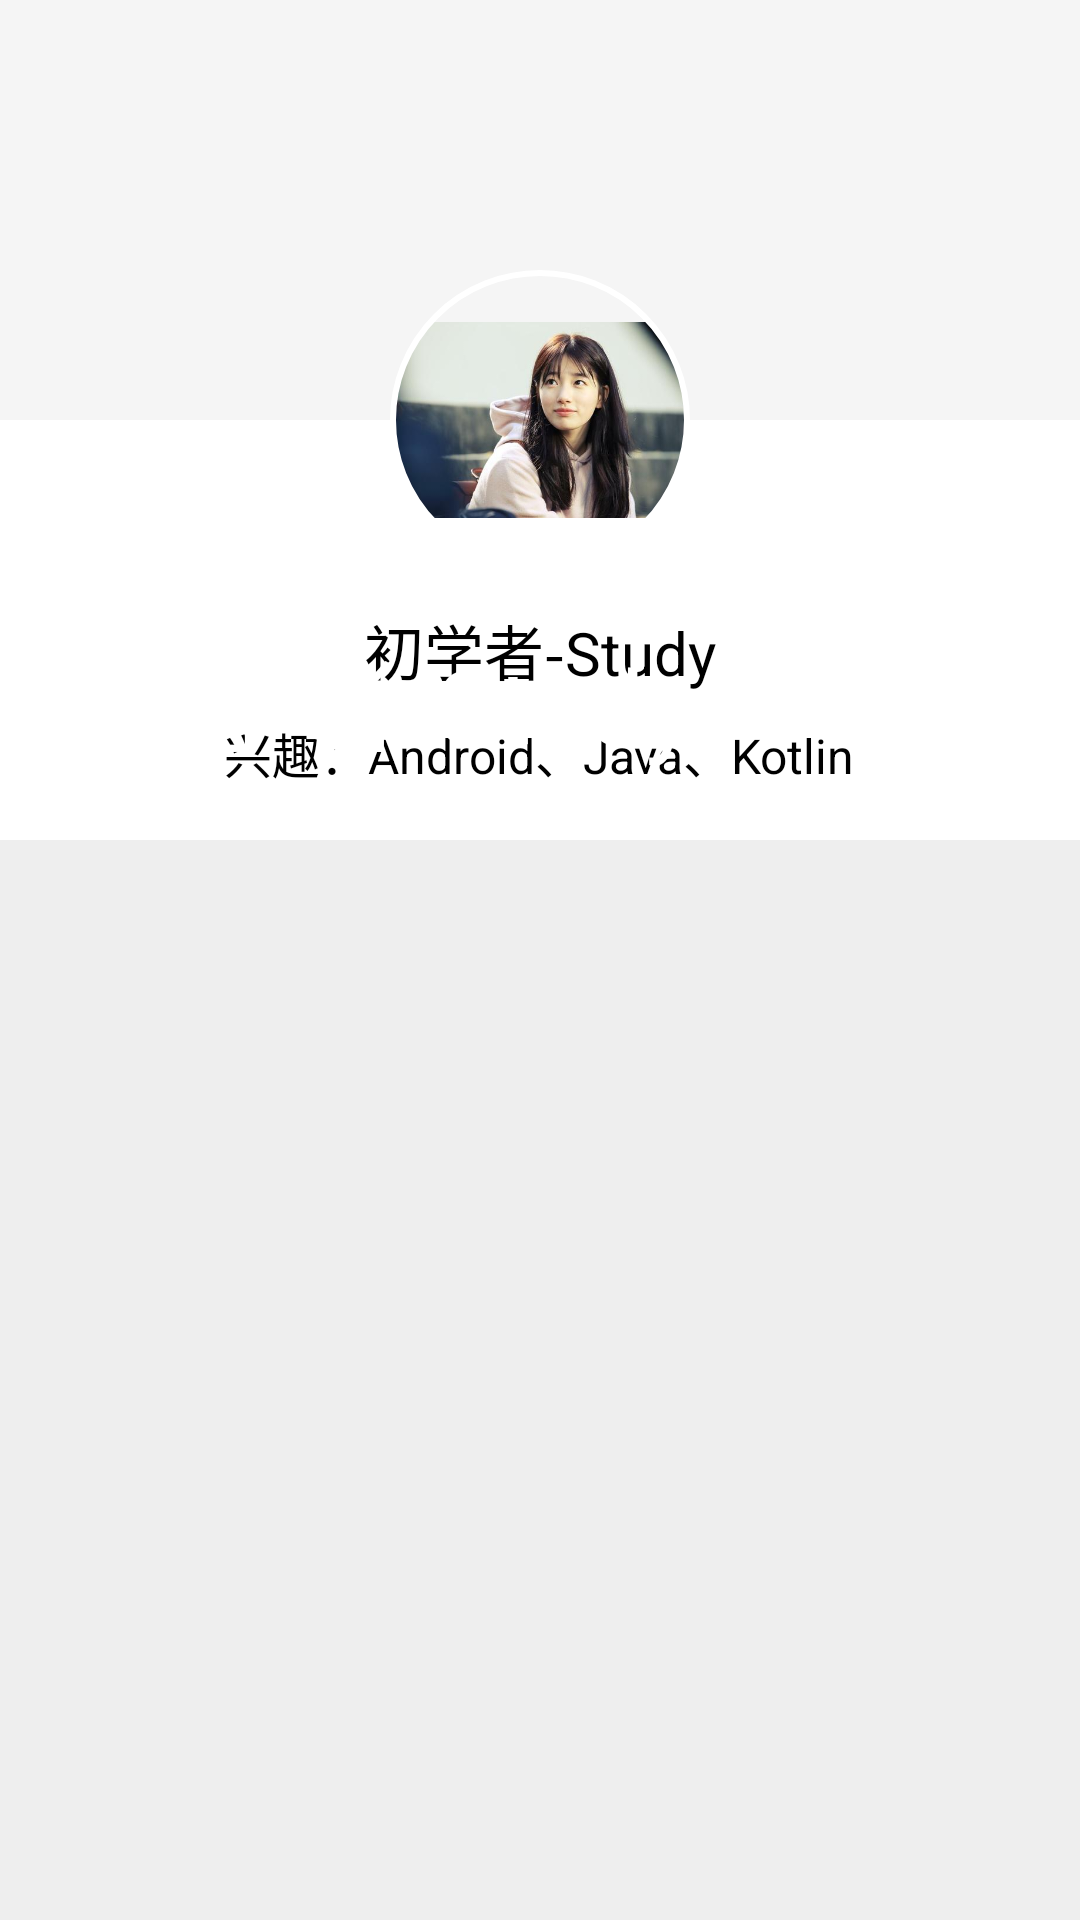

Named icons in this screenshot (1080w x 1920h) and their bounding boxes, box=[x1, y1, x2, y2]:
idol: box=[396, 322, 684, 518]
